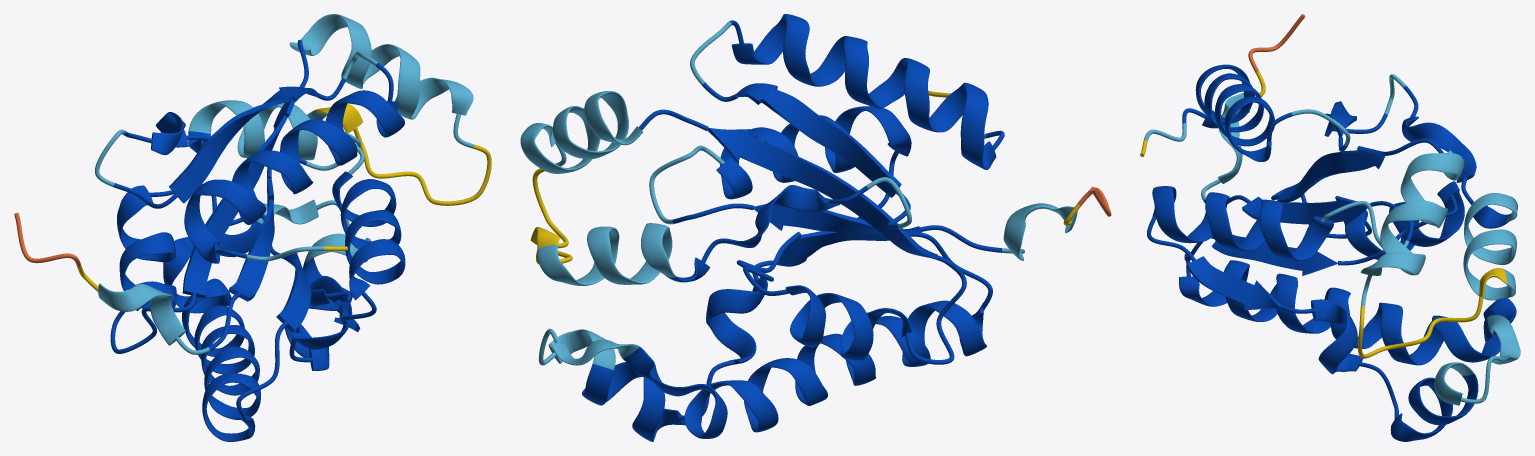
Rendered from mainProtein.glb.
3 views of the same model, side by side, from view 1: azimuth 30°, elevation 25°; view 2: azimuth 150°, elevation 25°; view 3: azimuth 270°, elevation 25° (orthographic). The views are drawn at different scales.
Bounding box in the file's own units: 51.86 × 34.1 × 35.95.
